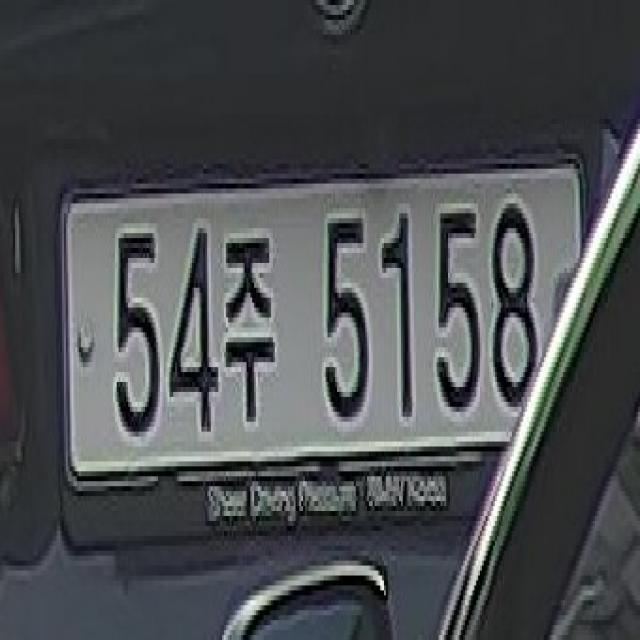1: (380, 203, 420, 412)
4: (158, 204, 226, 446)
5: (320, 194, 378, 442), (104, 213, 164, 437), (429, 184, 484, 416)
8: (484, 203, 538, 417)
ju: (216, 188, 288, 442)
license_plate: (56, 148, 595, 560)
